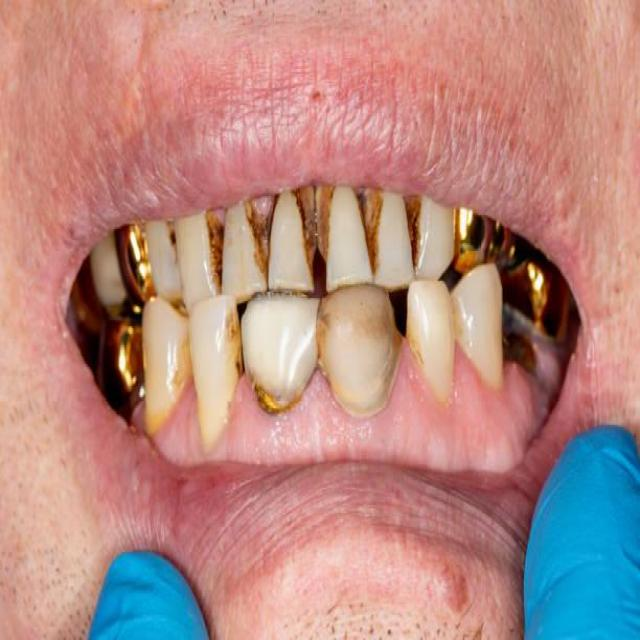caries: (493, 316, 542, 389), (162, 212, 187, 260)
